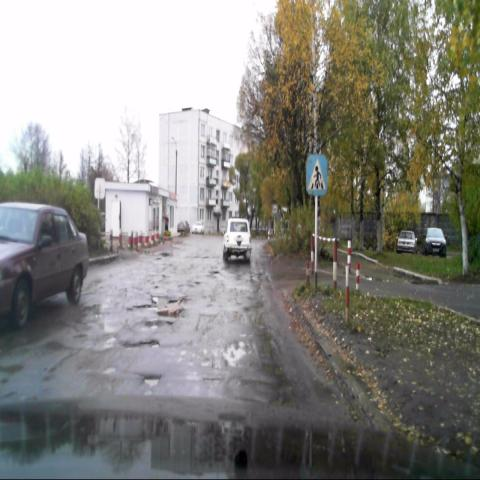5_19_1: (306, 154, 327, 194)
